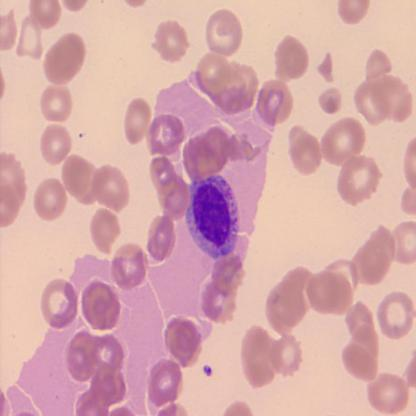Myelocyte: (187, 172, 240, 258)
